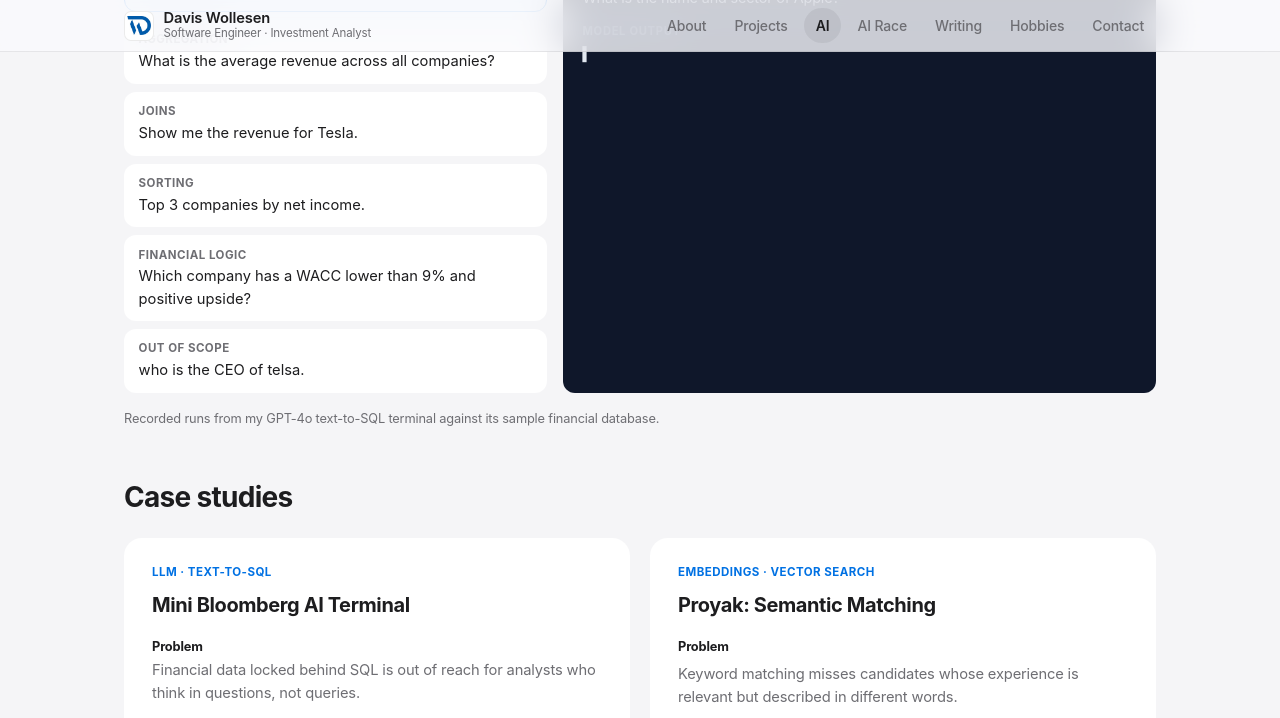
Test case: AI page replays text-to-SQL runs, including a blocked one
(page scrolled)
Click the button "Out of scope who is the CEO of telsa.": (184, 348) [124, 329, 547, 393]
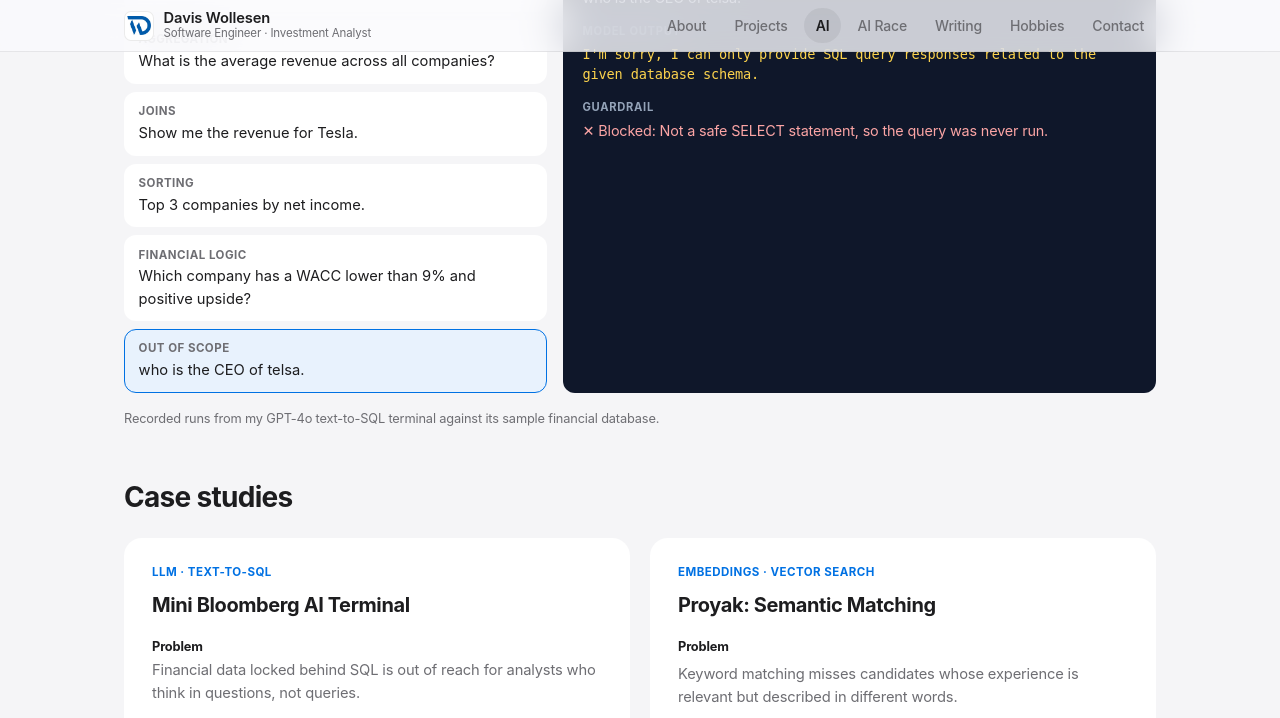
expect the text "Blocked" is shown: met, box [582, 122, 1048, 138]
